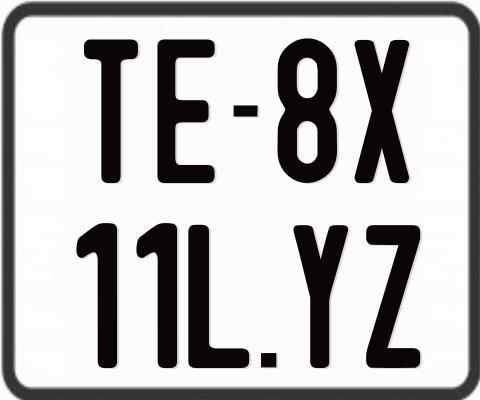1: (75, 220, 119, 366), (136, 220, 179, 367)
8: (277, 38, 339, 187)
E: (157, 36, 217, 181)
L: (185, 223, 246, 371)
T: (83, 37, 139, 182)
X: (355, 38, 410, 186)
Y: (294, 225, 353, 373)
Z: (365, 225, 420, 372)
